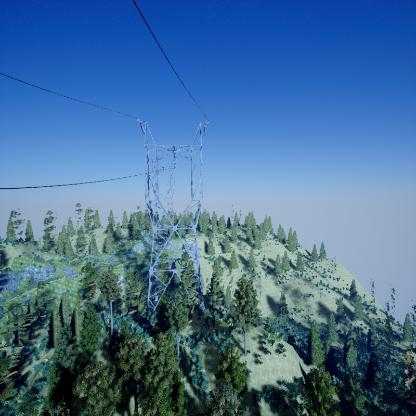tower: (134, 118, 210, 311)
